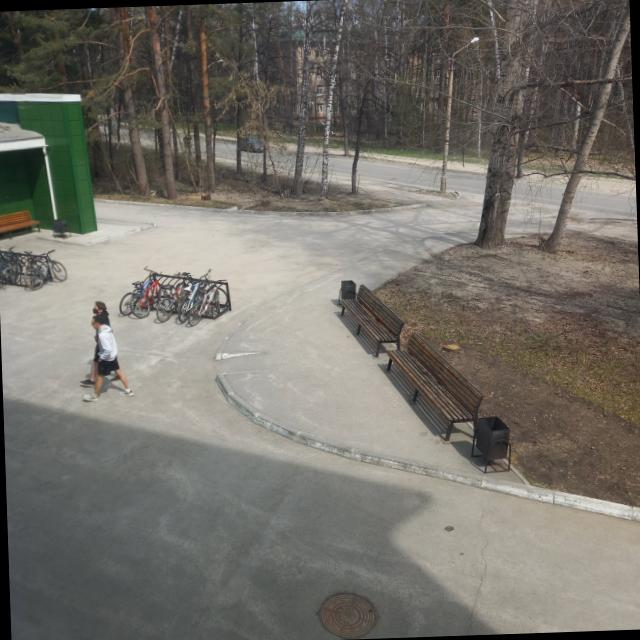person: (80, 312, 134, 400), (79, 298, 122, 386)
